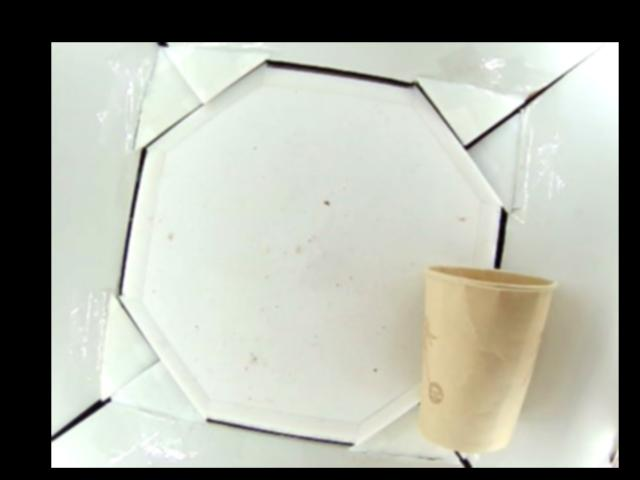Cup: (420, 267, 561, 449)
